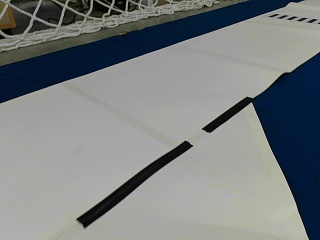crosswalk: (268, 12, 317, 24)
